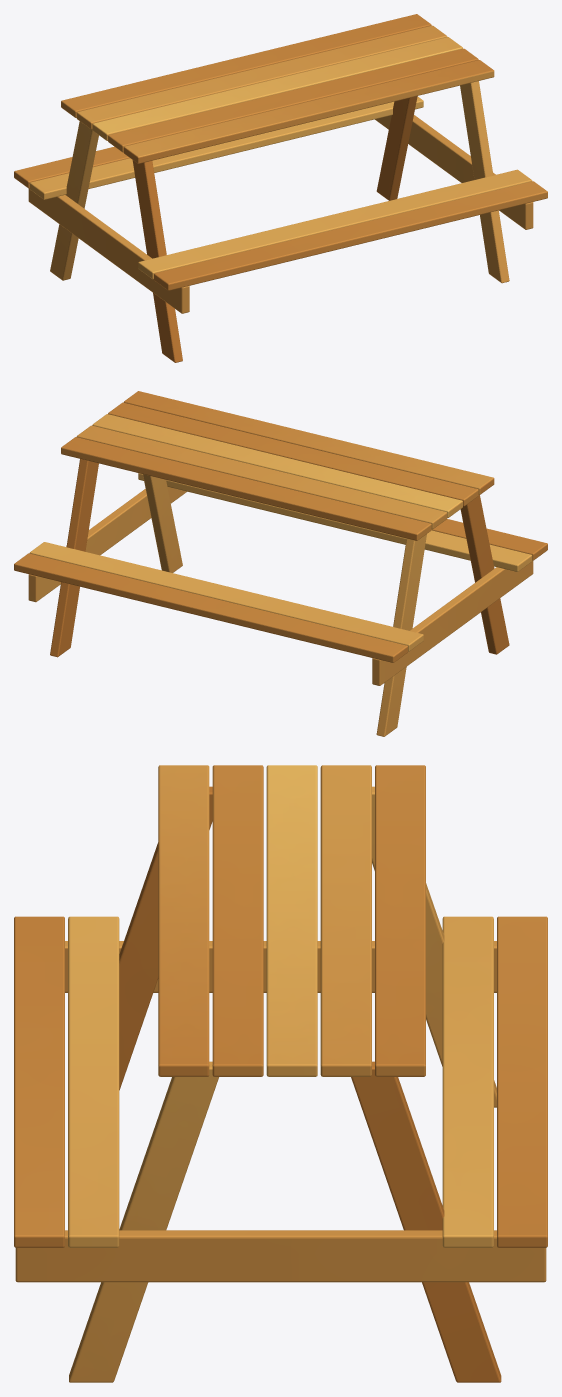
Rendered from picnic table.glb.
3 renders of one model, top to bottom at view 1: azimuth 30°, elevation 25°; view 2: azimuth 150°, elevation 25°; view 3: azimuth 270°, elevation 25°, orthographic. The views are drawn at different scales.
Parts seen in each view (by area): view 1: picnic table; view 2: picnic table; view 3: picnic table.
Part boxes in pixels (box(x1,y1,x2,y2)): picnic table: box(14, 14, 547, 362); picnic table: box(14, 391, 547, 736); picnic table: box(14, 765, 547, 1382).
Size of the model in its own units: 2.23 by 1.06 by 1.57.
Materials: 1 (1 with a texture image).
